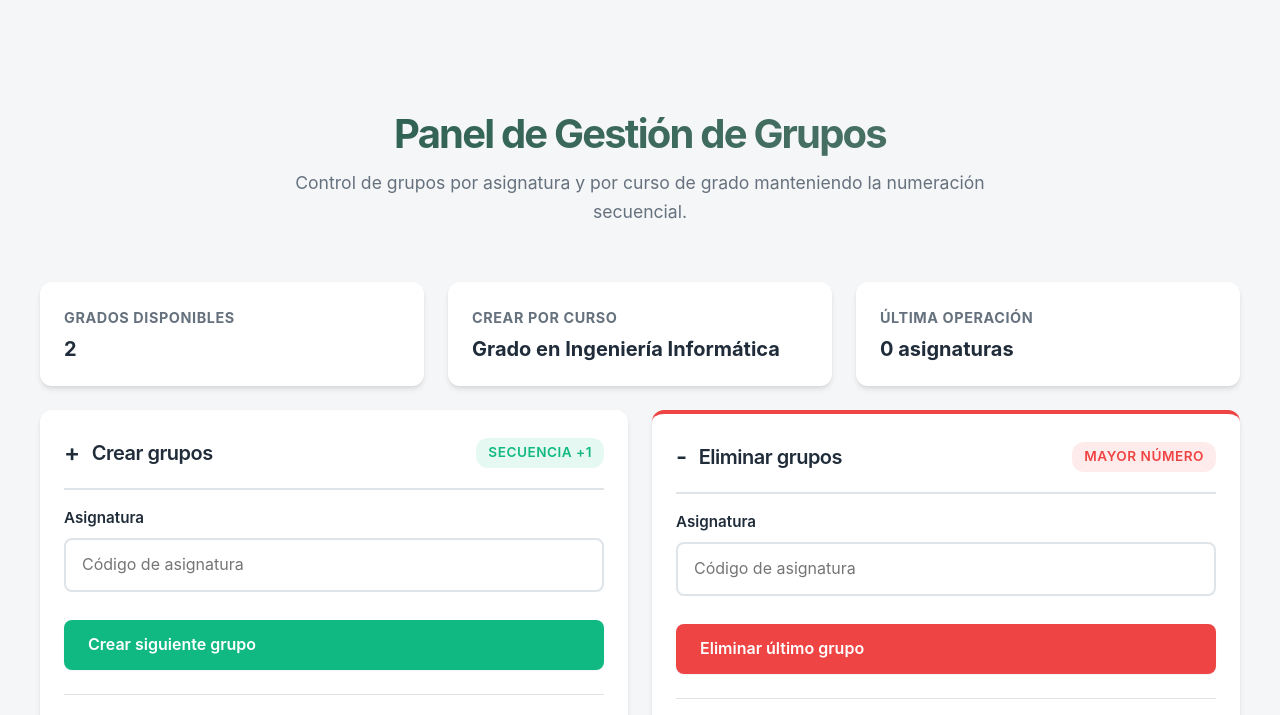
PanelGestionGrupos › crea el siguiente grupo de una asignatura
Expected: the heading "Panel de Gestión de Grupos" is shown, [40, 111, 1240, 157]
Type "2050001" into the number field labelled "Asignatura" below "Crear grupos" at (334, 565), box [64, 538, 604, 592]
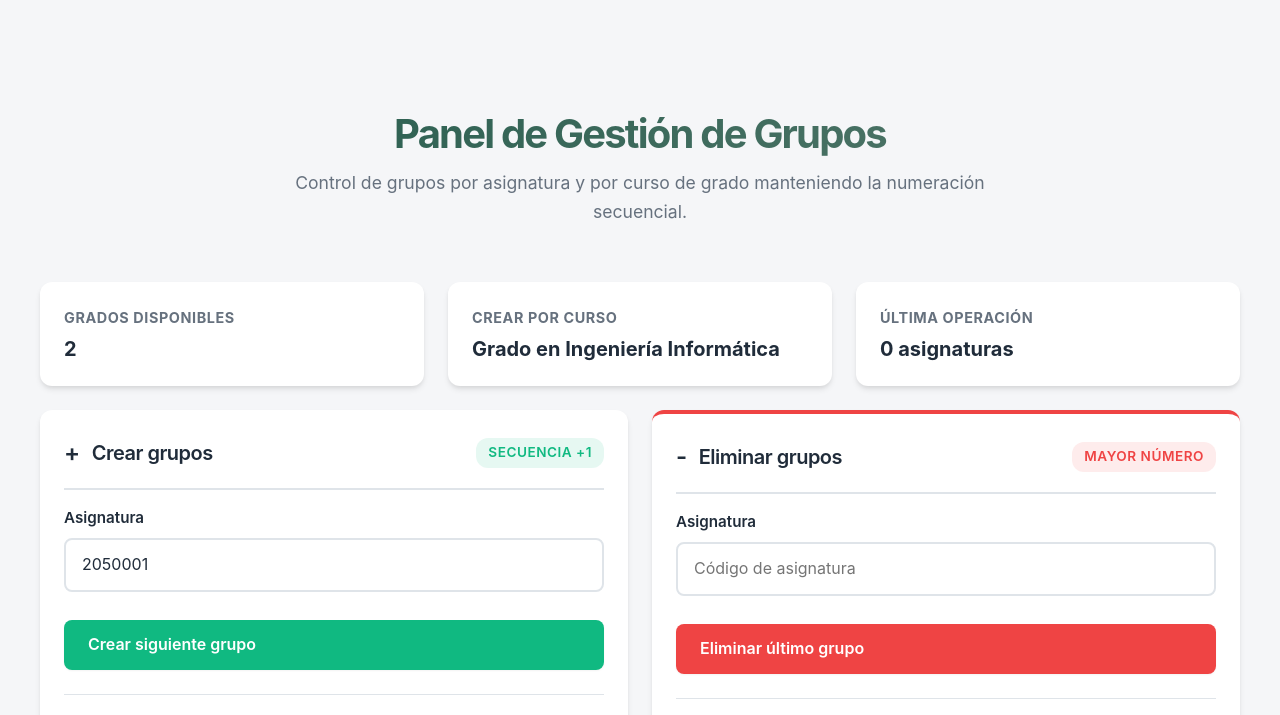
Click the button "Crear siguiente grupo" at (172, 644), box [64, 620, 604, 670]
(page scrolled)
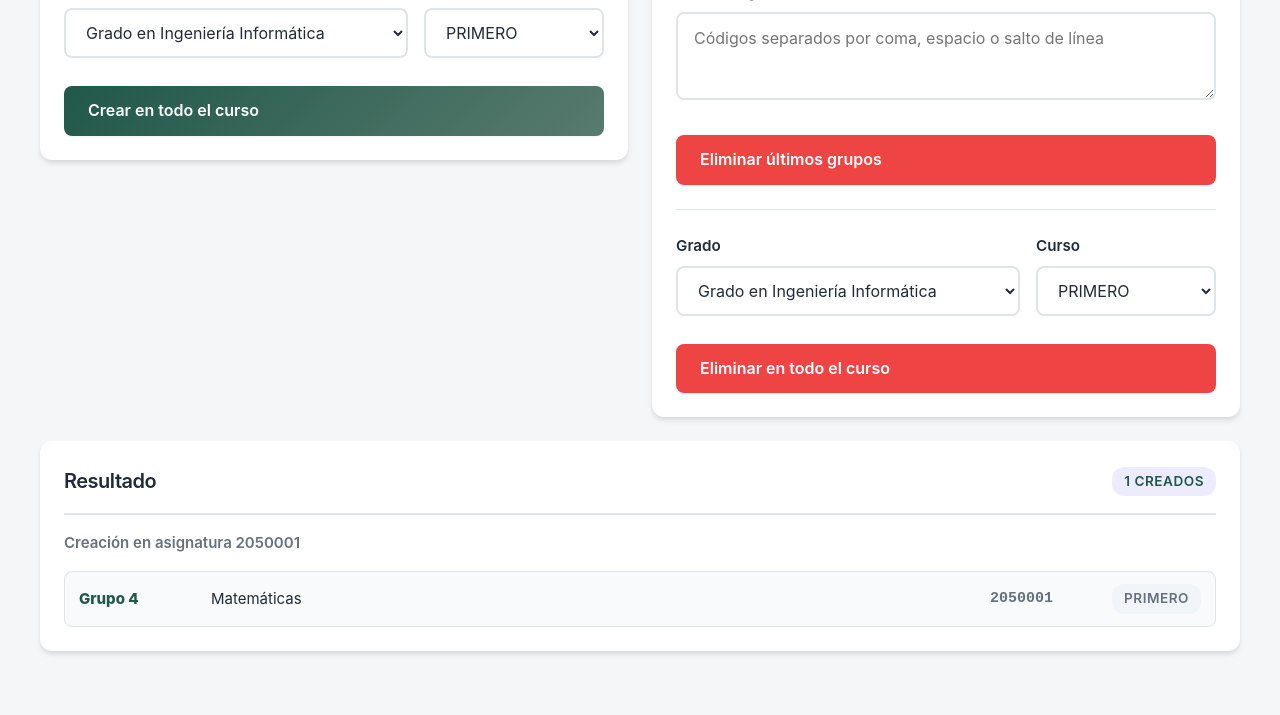
Result: the text "Grupo 4" is shown at [79, 589, 139, 608]
